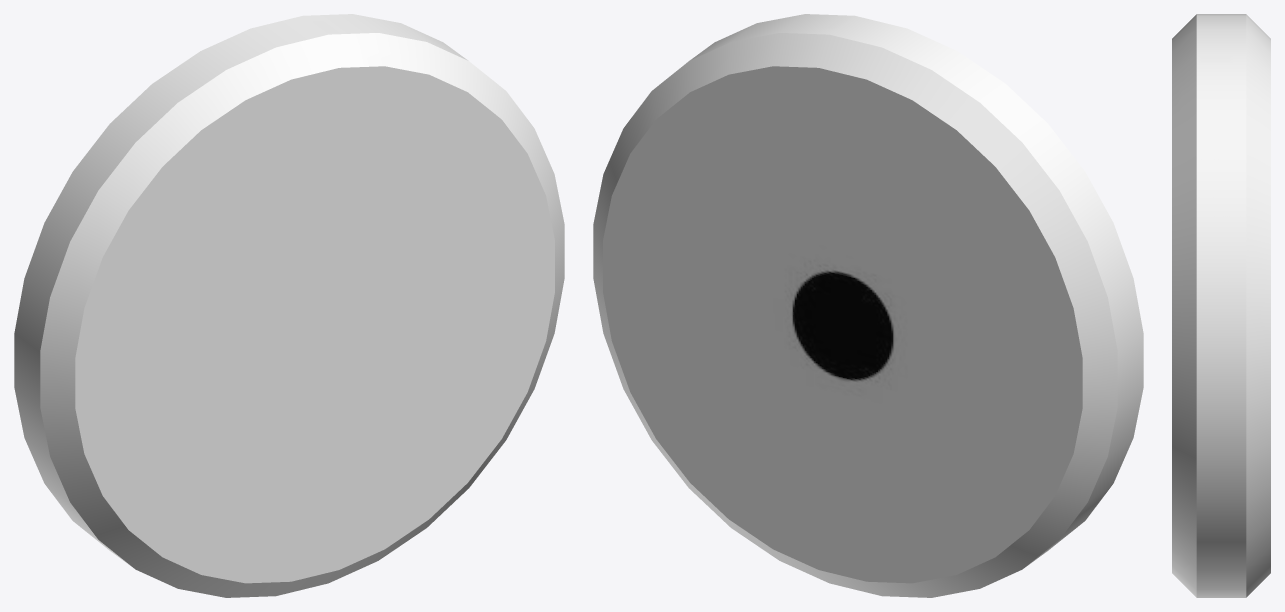
File: Chip_1.fbx
The picture shows the model from 3 angles, left to right: view 1: azimuth 30°, elevation 25°; view 2: azimuth 150°, elevation 25°; view 3: azimuth 270°, elevation 25°; orthographic projection. The views are drawn at different scales.
Visible parts, largest first — view 1: Chip_1; view 2: Chip_1; view 3: Chip_1.
Part boxes in pixels (<box>): Chip_1: <box>14,14,564,597</box>; Chip_1: <box>593,14,1143,597</box>; Chip_1: <box>1172,14,1270,597</box>.
Size of the model in its own units: 118 by 118 by 20.
